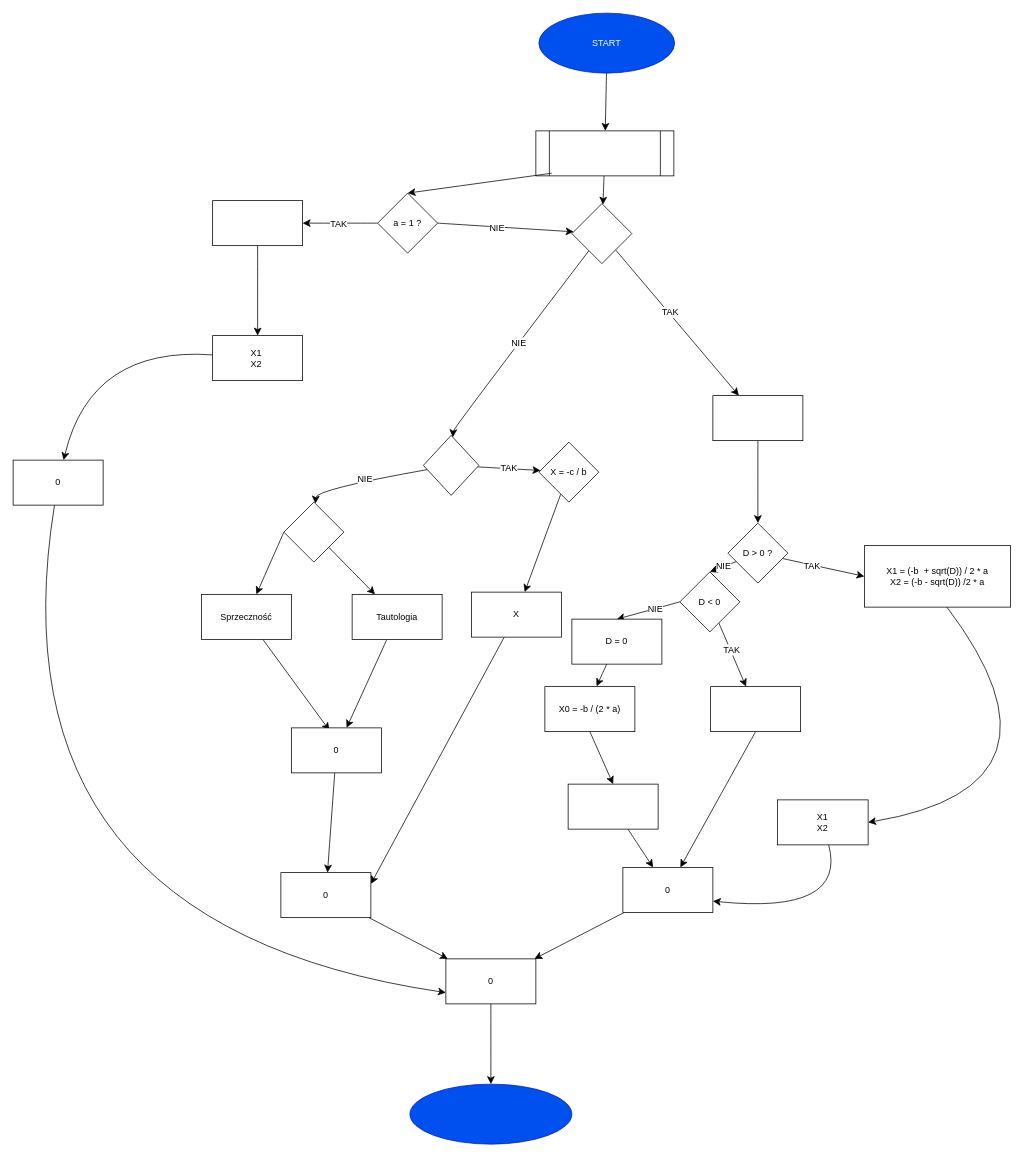
The diagram is 1024 pixels wide and 1157 high, and some of its shapes have lost their labels. Here are the shapes that lost their labels. From the top down, the box of each, then its label:
(535, 130, 674, 176): PODAJ a, b, c
(212, 200, 303, 246): X1 + X2 = -b X1 + X2 = c
(571, 203, 632, 264): a != 0
(712, 395, 803, 441): ax^2 + bx + c = 0
(423, 435, 479, 495): b != 0
(283, 501, 344, 562): c != 0
(710, 686, 801, 732): brak pier.
(567, 783, 658, 829): X0
(409, 1083, 572, 1144): KONIEC
